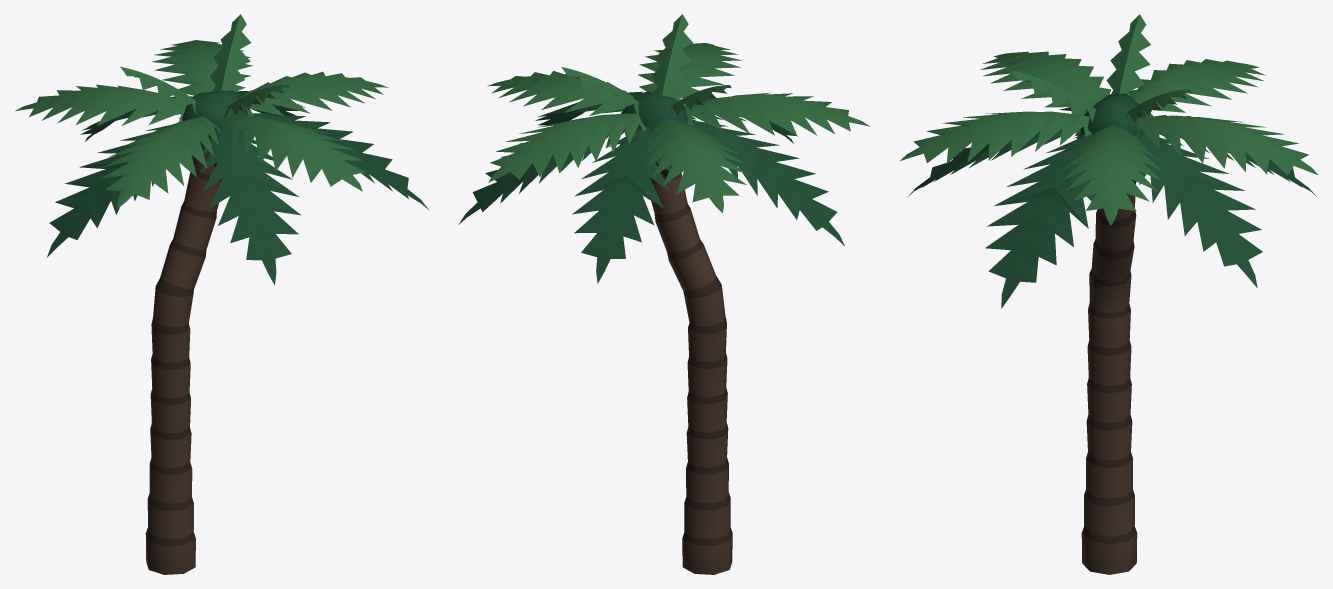
Rendered from palm_c.glb.
3 renders of one model, left to right at view 1: azimuth 30°, elevation 25°; view 2: azimuth 150°, elevation 25°; view 3: azimuth 270°, elevation 25°, orthographic. The views are drawn at different scales.
Parts seen in each view (by area): view 1: body; view 2: body; view 3: body.
Part boxes in pixels (x1,y1,x2,y2): body: [15, 14, 428, 574]; body: [458, 14, 870, 574]; body: [900, 14, 1317, 574].
Size of the model in its own units: 3.33 by 4.51 by 3.24.
